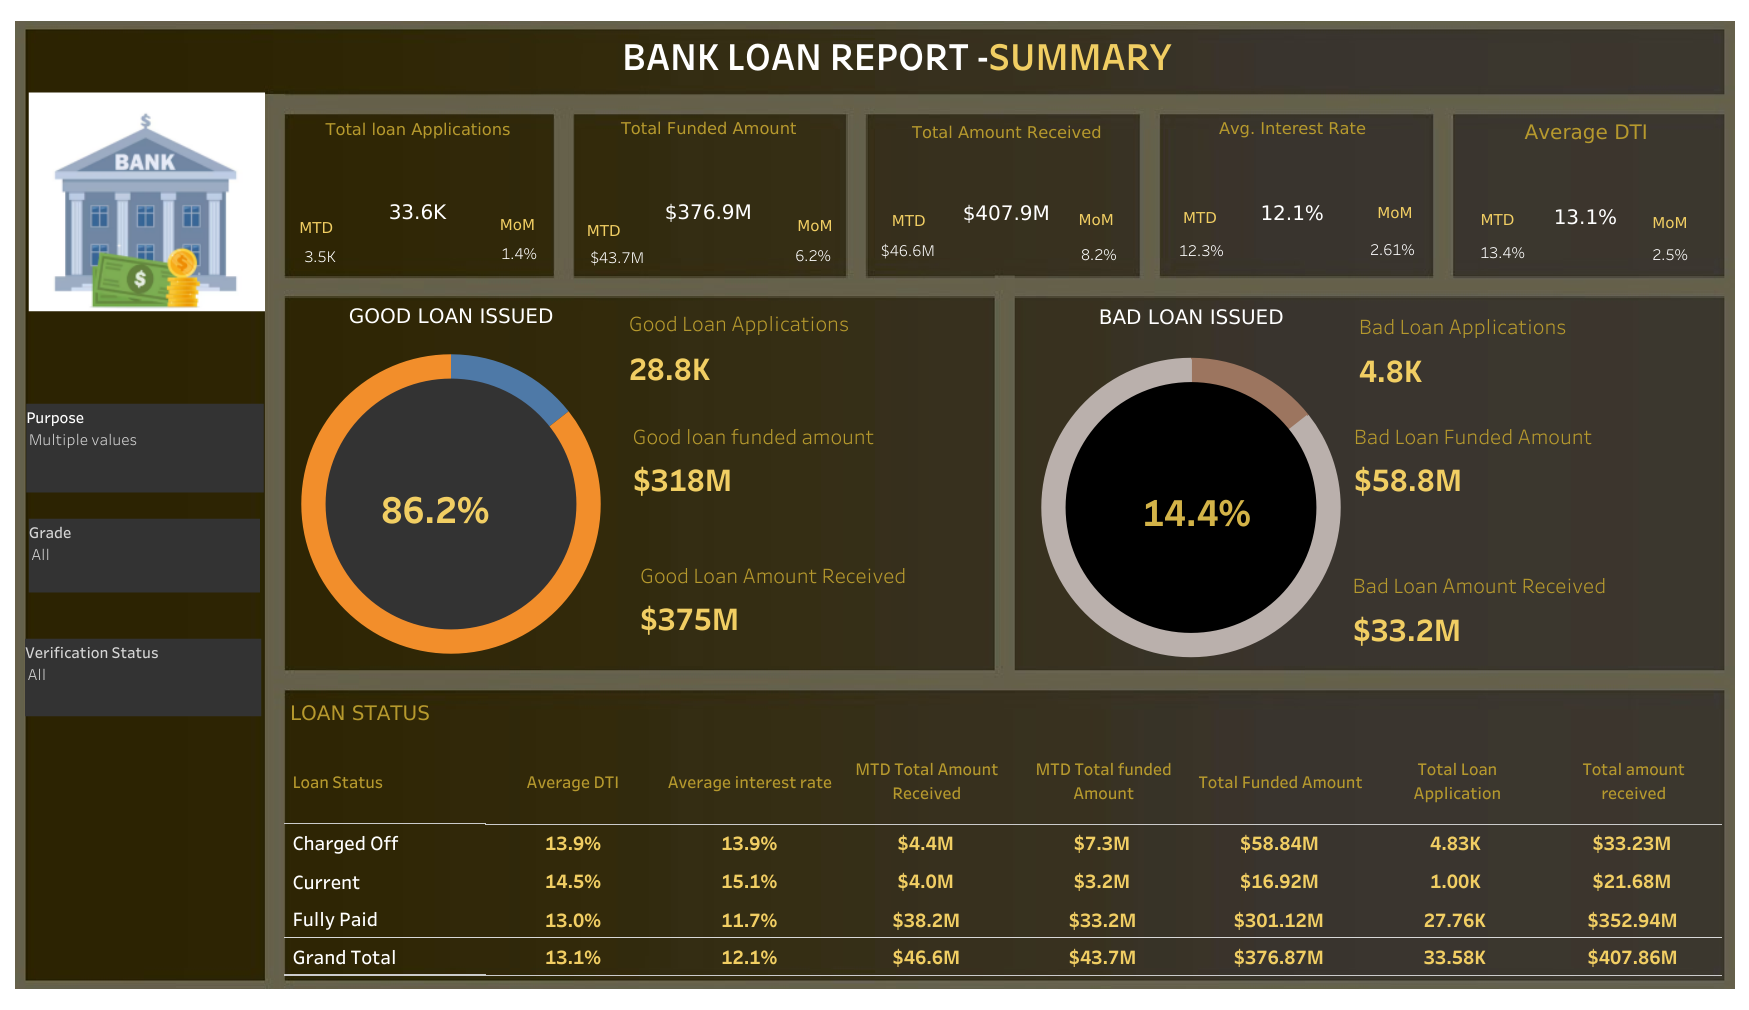

Layout of this report page (visuals, bound fields, positions):
{"tool":"tableau","page":{"name":"SUMMARY","canvas":[1000,1000],"units":"permille","ordinal":0},"visuals":[{"type":"image","param":"Image/Tableau Background 1.jpg","box":[5.7,10,988.6,980]},{"type":"text","box":[353.6,22.4,419.3,63.6]},{"type":"image","param":"Image/Bank Image .png","box":[16.4,89.8,135,235.7]},{"type":"worksheet","title":"Total Funded Amount","mark":"Automatic","box":[326.4,108.5,157.1,163.3]},{"type":"worksheet","title":"Average Interest Rate","mark":"Automatic","box":[658.6,108.5,160,165.8]},{"type":"worksheet","title":"Total loan Applications","mark":"Automatic","box":[162.9,109.7,152.1,160.8]},{"type":"worksheet","title":"Average DTI","mark":"Automatic","box":[828.6,111,155.7,164.6]},{"type":"worksheet","title":"Total Amount received ","mark":"Automatic","box":[493.6,112.2,163.6,158.3]},{"type":"text","box":[777.1,190.8,40,37.4]},{"type":"text","box":[665.7,195.8,40,37.4]},{"type":"text","box":[606.4,198.2,40,37.4]},{"type":"text","box":[835.7,198.2,40,37.4]},{"type":"text","box":[499.3,199.5,40,37.4]},{"type":"text","box":[934.3,200.8,40,37.4]},{"type":"text","box":[275.7,203.2,40,37.4]},{"type":"text","box":[445.7,204.5,40,37.4]},{"type":"worksheet","title":"MOM Average DTI","mark":"Automatic","box":[929.3,204.5,51.4,72.3]},{"type":"text","box":[160.7,205.7,40,37.4]},{"type":"text","box":[325,209.5,40,37.4]},{"type":"worksheet","title":"MTD Average interest rate","mark":"Automatic","box":[665,223.2,43.6,47.4]},{"type":"worksheet","title":"MOM Average Interest rate ","mark":"Automatic","box":[774.3,223.2,42.9,44.9]},{"type":"worksheet","title":"MTD Average DTI","mark":"Automatic","box":[830.7,226.9,55.7,42.4]},{"type":"worksheet","title":"MOM Loan Applications","mark":"Automatic","box":[280,231.9,33.6,34.9]},{"type":"worksheet","title":"MTD Total Amount Received","mark":"Automatic","box":[495,233.2,48.6,37.4]},{"type":"worksheet","title":"MOM Total Amount Received  ","mark":"Automatic","box":[606.4,233.2,44.3,34.9]},{"type":"worksheet","title":"MOM Total Funded Amount","mark":"Automatic","box":[445,234.4,39.3,33.7]},{"type":"worksheet","title":" MTD Total Loan Applications ","mark":"Automatic","box":[164.3,238.2,38.6,31.2]},{"type":"worksheet","title":"MTD Total Funded Amount","mark":"Automatic","box":[327.9,239.4,50,34.9]},{"type":"worksheet","title":"Good loan applications","mark":"Automatic","box":[353.6,293,214.3,93.5]},{"type":"worksheet","title":"GOOD LOAN","mark":"Pie","rows":["Calculation_178736638550482974","Calculation_178736638550482974"],"box":[164.3,294.3,194.3,367.8]},{"type":"worksheet","title":"Bad loan issued","mark":"Pie","rows":["Calculation_178736638550482974","Calculation_178736638550482974"],"box":[580.7,294.3,200,372.8]},{"type":"worksheet","title":"Bad loan Application","mark":"Automatic","box":[770.7,295.5,214.3,93.5]},{"type":"filter","title":"GOOD LOAN","param":"[federated.1nj6bp40c44apk1bier2k1543aiy].[none:purpose:nk]","box":[15,399,135.7,88.5]},{"type":"worksheet","title":"Bad Loan %","mark":"Automatic","box":[625.7,400.2,116.4,210.7]},{"type":"worksheet","title":"Good loan funded amount","mark":"Automatic","box":[355.7,404,214.3,93.5]},{"type":"worksheet","title":"Bad loan funded amount","mark":"Automatic","box":[767.9,404,214.3,93.5]},{"type":"worksheet","title":"good loan%","mark":"Automatic","box":[215,409,92.1,187]},{"type":"filter","title":"GOOD LOAN","param":"[federated.1nj6bp40c44apk1bier2k1543aiy].[none:grade:nk]","box":[16.4,512.5,132.1,73.6]},{"type":"worksheet","title":"Good loan amount received ","mark":"Automatic","box":[360,541.1,214.3,93.5]},{"type":"worksheet","title":"Bad loan received amount","mark":"Automatic","box":[767.1,551.1,214.3,93.5]},{"type":"filter","title":"GOOD LOAN","param":"[federated.1nj6bp40c44apk1bier2k1543aiy].[none:verification_status:nk]","box":[14.3,632.2,135,76.1]},{"type":"worksheet","title":"Loan status","mark":"Automatic","rows":["loan_status"],"box":[162.9,685.8,822.1,279.3]}]}

Visuals, with their boxes on the dashboard's canvas, which has no fixed pixel size, in thousandths of its width and height (x1, y1, x2, y2). These are canvas units, not pixel positions in the 1749x1010 screenshot, which may show the page scaled, cropped or inside an application window:
image: bbox(6, 10, 994, 990)
text: bbox(354, 22, 773, 86)
image: bbox(16, 90, 151, 326)
"Total Funded Amount" worksheet: bbox(326, 108, 484, 272)
"Average Interest Rate" worksheet: bbox(659, 108, 819, 274)
"Total loan Applications" worksheet: bbox(163, 110, 315, 270)
"Average DTI" worksheet: bbox(829, 111, 984, 276)
"Total Amount received " worksheet: bbox(494, 112, 657, 270)
text: bbox(777, 191, 817, 228)
text: bbox(666, 196, 706, 233)
text: bbox(606, 198, 646, 236)
text: bbox(836, 198, 876, 236)
text: bbox(499, 200, 539, 237)
text: bbox(934, 201, 974, 238)
text: bbox(276, 203, 316, 241)
text: bbox(446, 204, 486, 242)
"MOM Average DTI" worksheet: bbox(929, 204, 981, 277)
text: bbox(161, 206, 201, 243)
text: bbox(325, 210, 365, 247)
"MTD Average interest rate" worksheet: bbox(665, 223, 709, 271)
"MOM Average Interest rate " worksheet: bbox(774, 223, 817, 268)
"MTD Average DTI" worksheet: bbox(831, 227, 886, 269)
"MOM Loan Applications" worksheet: bbox(280, 232, 314, 267)
"MTD Total Amount Received" worksheet: bbox(495, 233, 544, 271)
"MOM Total Amount Received  " worksheet: bbox(606, 233, 651, 268)
"MOM Total Funded Amount" worksheet: bbox(445, 234, 484, 268)
" MTD Total Loan Applications " worksheet: bbox(164, 238, 203, 269)
"MTD Total Funded Amount" worksheet: bbox(328, 239, 378, 274)
"Good loan applications" worksheet: bbox(354, 293, 568, 386)
"GOOD LOAN" worksheet (Pie marks): bbox(164, 294, 359, 662)
"Bad loan issued" worksheet (Pie marks): bbox(581, 294, 781, 667)
"Bad loan Application" worksheet: bbox(771, 296, 985, 389)
"GOOD LOAN" filter: bbox(15, 399, 151, 488)
"Bad Loan %" worksheet: bbox(626, 400, 742, 611)
"Good loan funded amount" worksheet: bbox(356, 404, 570, 498)
"Bad loan funded amount" worksheet: bbox(768, 404, 982, 498)
"good loan%" worksheet: bbox(215, 409, 307, 596)
"GOOD LOAN" filter: bbox(16, 512, 148, 586)
"Good loan amount received " worksheet: bbox(360, 541, 574, 635)
"Bad loan received amount" worksheet: bbox(767, 551, 981, 645)
"GOOD LOAN" filter: bbox(14, 632, 149, 708)
"Loan status" worksheet: bbox(163, 686, 985, 965)
